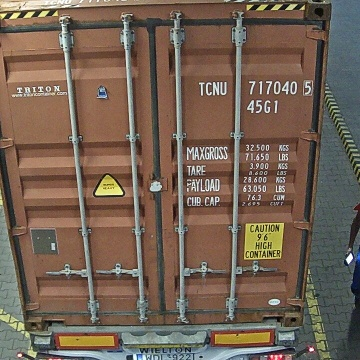serial_id: (199, 80, 313, 95)
